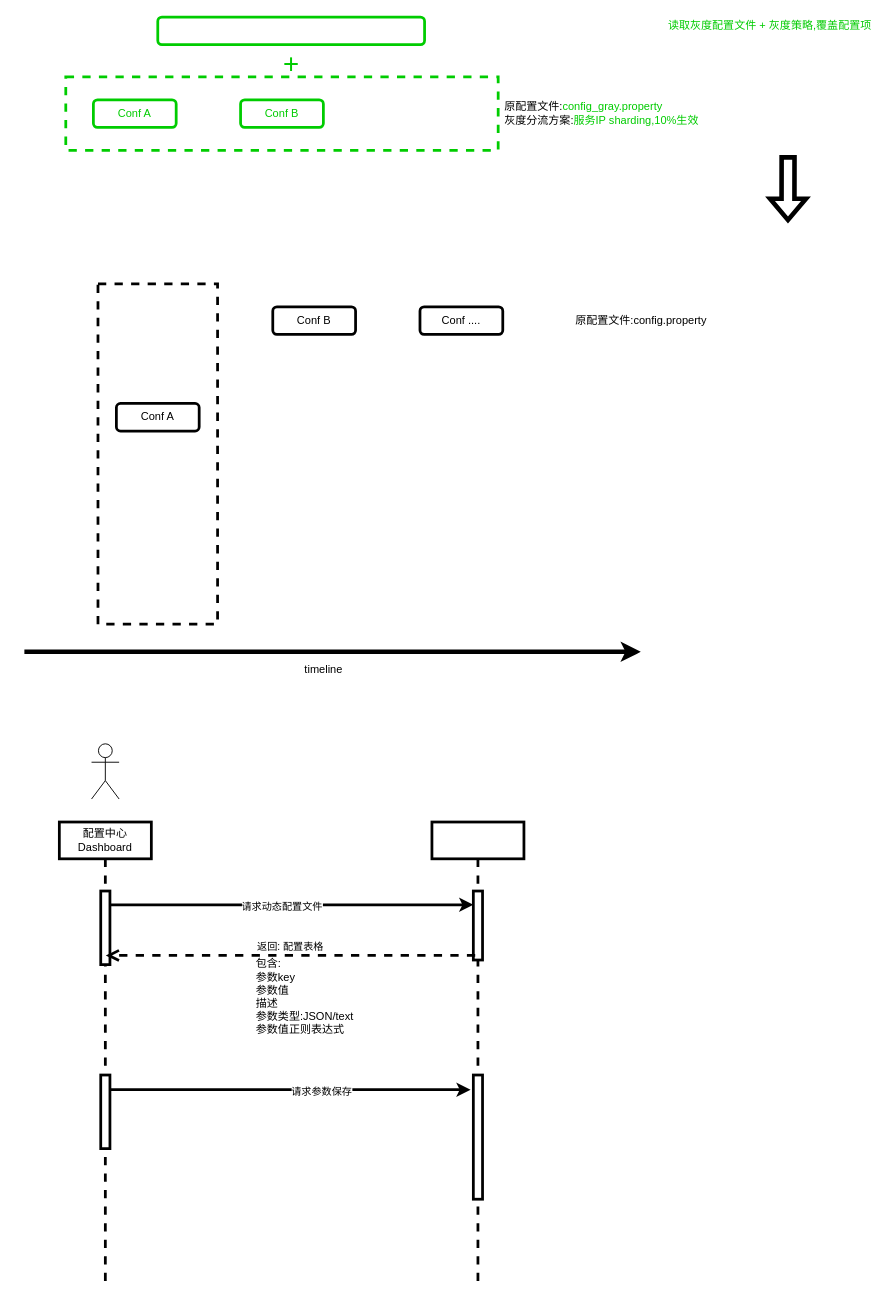
Image size: 896x1304. Some labels were removed from this diagram. Each missing label, with the centre of its shape:
"gray strategy" goes at (291,30).
"云平台用户" goes at (105,771).
"配置中心服务端" goes at (477,1054).
